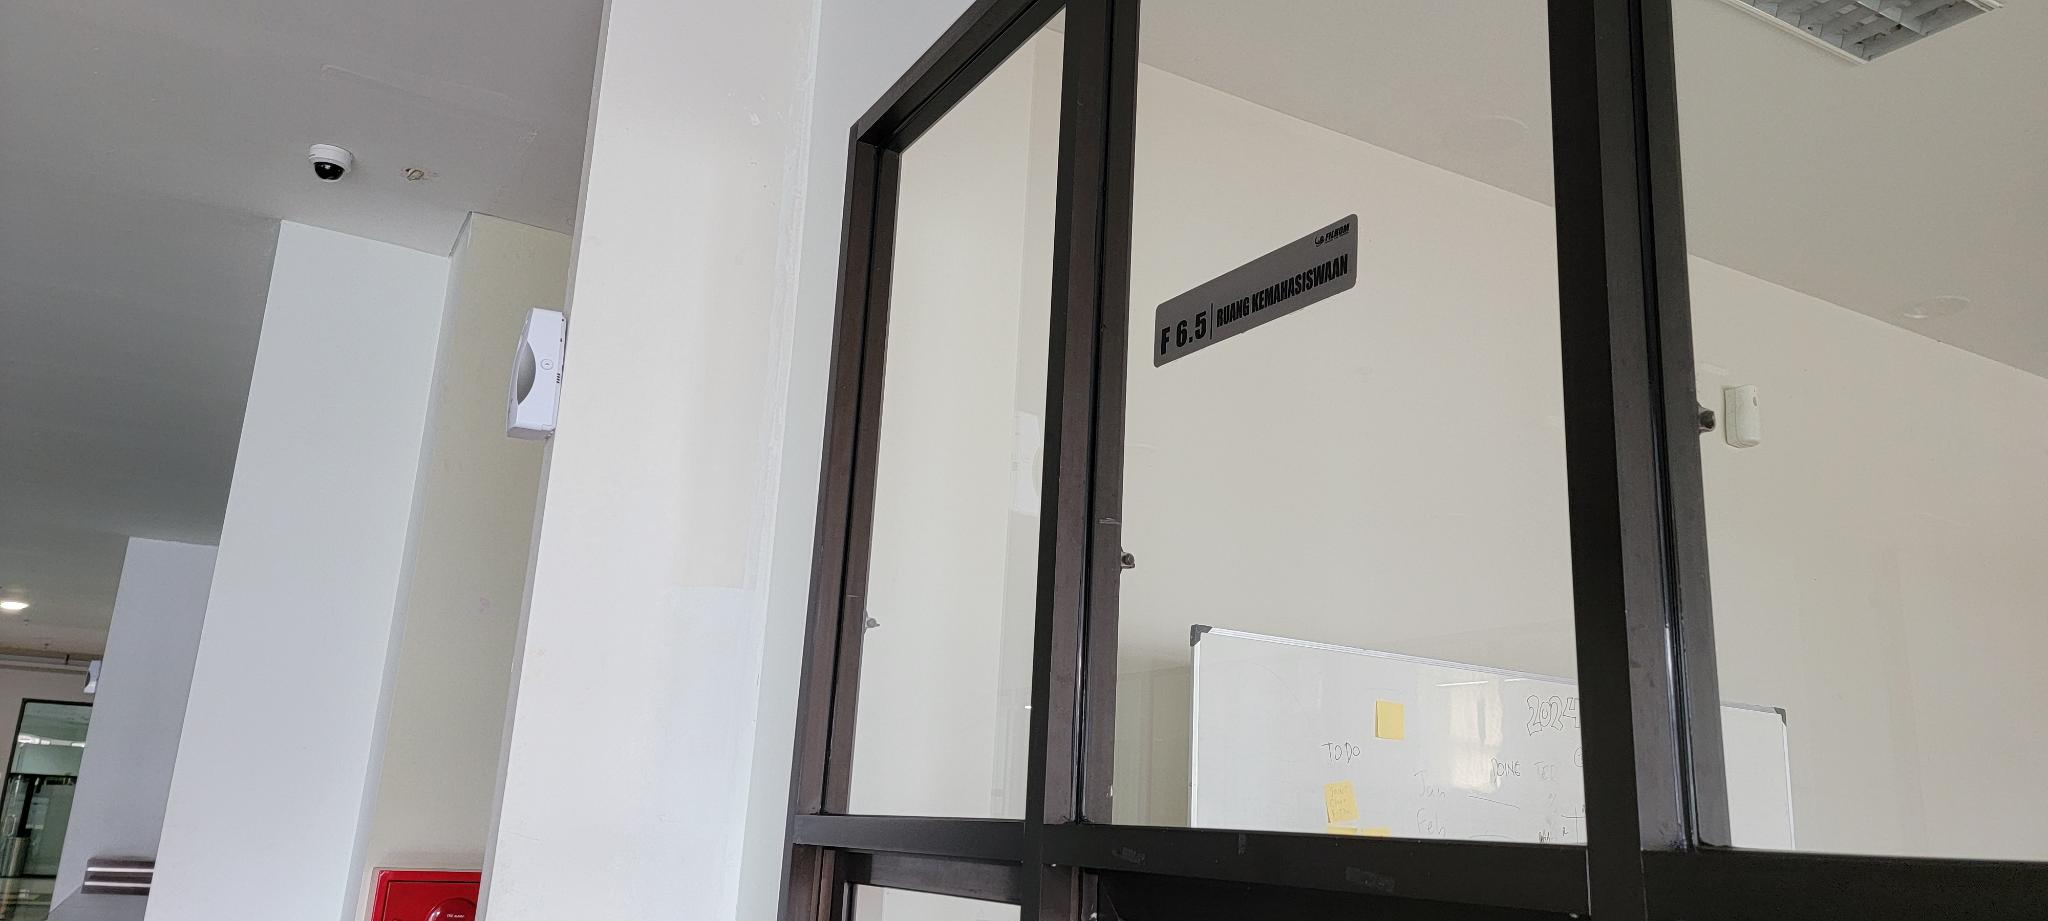plate: (1153, 212, 1358, 370)
